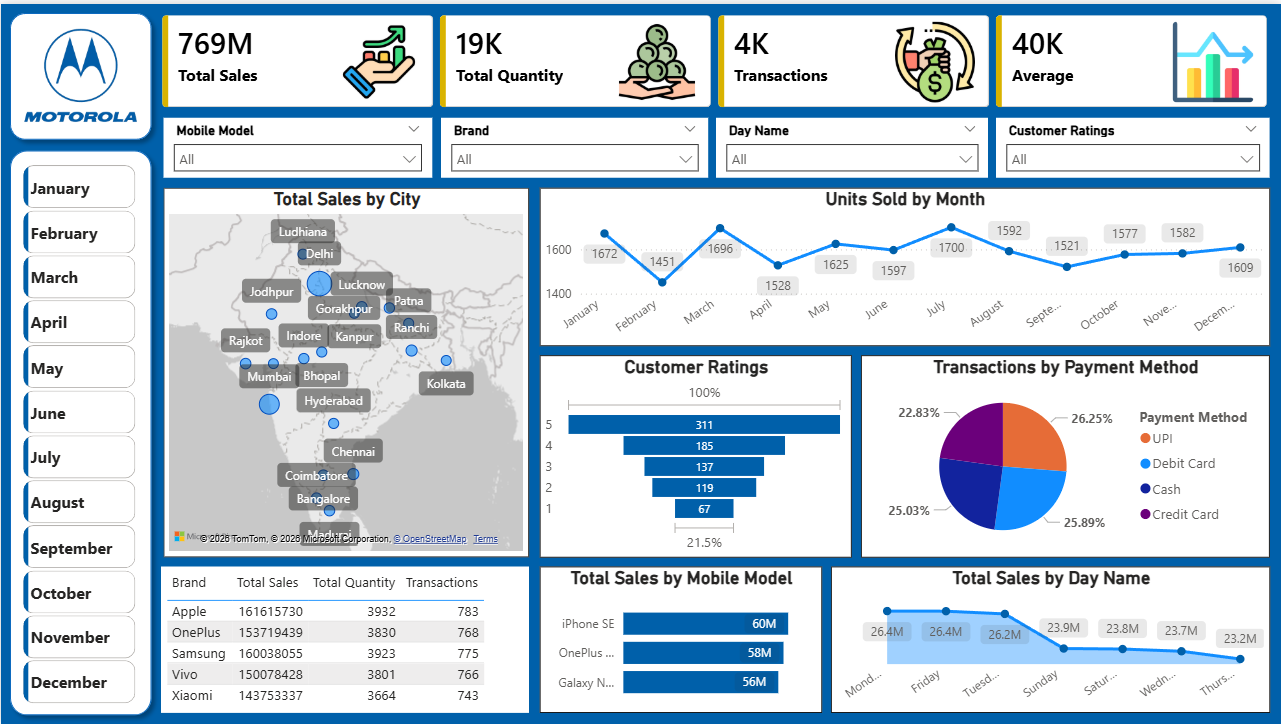

The page's visual inventory and layout, read from the dashboard file:
{"tool":"powerbi","page":{"name":"Page 1","canvas":[1280,720],"ordinal":0},"visuals":[{"type":"shape","box":[0,0,159.5,144.8],"z":0},{"type":"image","box":[0,14.7,159.5,112.9],"z":1000},{"type":"shape","box":[0,137.4,159.5,582.8],"z":2000},{"type":"advancedSlicerVisual","fields":{"Values":["Sales_data.Date.Variation.Date Hierarchy.Month"]},"box":[17.2,155.8,122.7,552.2],"z":3000},{"type":"cardVisual","fields":{"Data":["Sales_data.Total Sales","Sales_data.Total Quantity","Sales_data.Transactions","Sales_data.Average"]},"box":[149.7,0,1130.1,114.1],"z":4000},{"type":"map","fields":{"Category":["Sales_data.City"],"Size":["Sales_data.Total Sales"]},"box":[162,184.1,365.6,369.3],"z":5000},{"type":"lineChart","fields":{"Category":["Sales_data.Date.Variation.Date Hierarchy.Month","Sales_data.Date.Variation.Date Hierarchy.Day"],"Y":["Sum(Sales_data.Units Sold)"]},"box":[538.7,184.1,730.1,158.3],"z":6000},{"type":"barChart","fields":{"Category":["Sales_data.Mobile Model"],"Y":["Sales_data.Total Sales"]},"box":[538.7,562,282.2,146],"z":7000},{"type":"pieChart","fields":{"Category":["Sales_data.Payment Method"],"Y":["Sales_data.Transactions"]},"box":[860.1,350.9,408.6,202.5],"z":8000},{"type":"funnel","title":"Customer Ratings","fields":{"Category":["Sales_data.Customer Ratings"],"Y":["CountNonNull(Sales_data.Customer Ratings)"]},"box":[538.7,350.9,311.7,202.5],"z":9000},{"type":"areaChart","fields":{"Category":["Sales_data.Day Name"],"Y":["Sales_data.Total Sales"]},"box":[829.5,562,439.3,146],"z":10000},{"type":"tableEx","fields":{"Values":["Sales_data.Brand","Sales_data.Total Sales","Sales_data.Total Quantity","Sales_data.Transactions"]},"box":[159.5,562,368.1,146],"z":11000},{"type":"slicer","fields":{"Values":["Sales_data.Mobile Model"]},"box":[162,114.1,268.7,60.1],"z":12000},{"type":"slicer","fields":{"Values":["Sales_data.Brand"]},"box":[440.5,114.1,267.5,60.1],"z":13000},{"type":"slicer","fields":{"Values":["Sales_data.Day Name"]},"box":[715.3,114.1,272.4,60.1],"z":14000},{"type":"slicer","fields":{"Values":["Sales_data.Customer Ratings"]},"box":[995.1,114.1,273.6,60.1],"z":15000}]}

Visuals, with their boxes in screenshot pixels (x1, y1, x2, y2), scaled from the page's 1280x720 canvas onto the 1281x724 screenshot:
shape: (x1=0, y1=0, x2=160, y2=146)
image: (x1=0, y1=15, x2=160, y2=128)
shape: (x1=0, y1=138, x2=160, y2=723)
advancedSlicerVisual - Sales_data.Date.Variation.Date Hierarchy.Month: (x1=17, y1=157, x2=140, y2=712)
cardVisual - Sales_data.Total Sales x Sales_data.Total Quantity: (x1=150, y1=0, x2=1280, y2=115)
map - Sales_data.City x Sales_data.Total Sales: (x1=162, y1=185, x2=528, y2=556)
lineChart - Sales_data.Date.Variation.Date Hierarchy.Month x Sales_data.Date.Variation.Date Hierarchy.Day: (x1=539, y1=185, x2=1270, y2=344)
barChart - Sales_data.Mobile Model x Sales_data.Total Sales: (x1=539, y1=565, x2=822, y2=712)
pieChart - Sales_data.Payment Method x Sales_data.Transactions: (x1=861, y1=353, x2=1270, y2=556)
"Customer Ratings" funnel: (x1=539, y1=353, x2=851, y2=556)
areaChart - Sales_data.Day Name x Sales_data.Total Sales: (x1=830, y1=565, x2=1270, y2=712)
tableEx - Sales_data.Brand x Sales_data.Total Sales: (x1=160, y1=565, x2=528, y2=712)
slicer - Sales_data.Mobile Model: (x1=162, y1=115, x2=431, y2=175)
slicer - Sales_data.Brand: (x1=441, y1=115, x2=709, y2=175)
slicer - Sales_data.Day Name: (x1=716, y1=115, x2=988, y2=175)
slicer - Sales_data.Customer Ratings: (x1=996, y1=115, x2=1270, y2=175)
